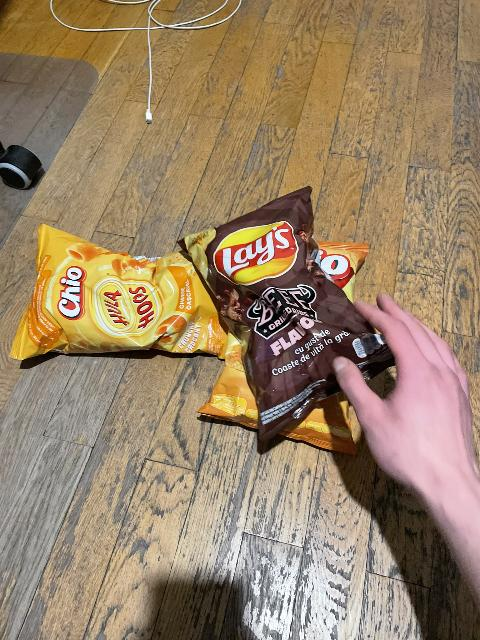Chio Cascaval 125g: (195, 224, 370, 455)
Chio Hula Hoops Cheese 70g: (9, 221, 225, 356)
Lays Beef Grilled Ribs 125g: (200, 198, 390, 442)
